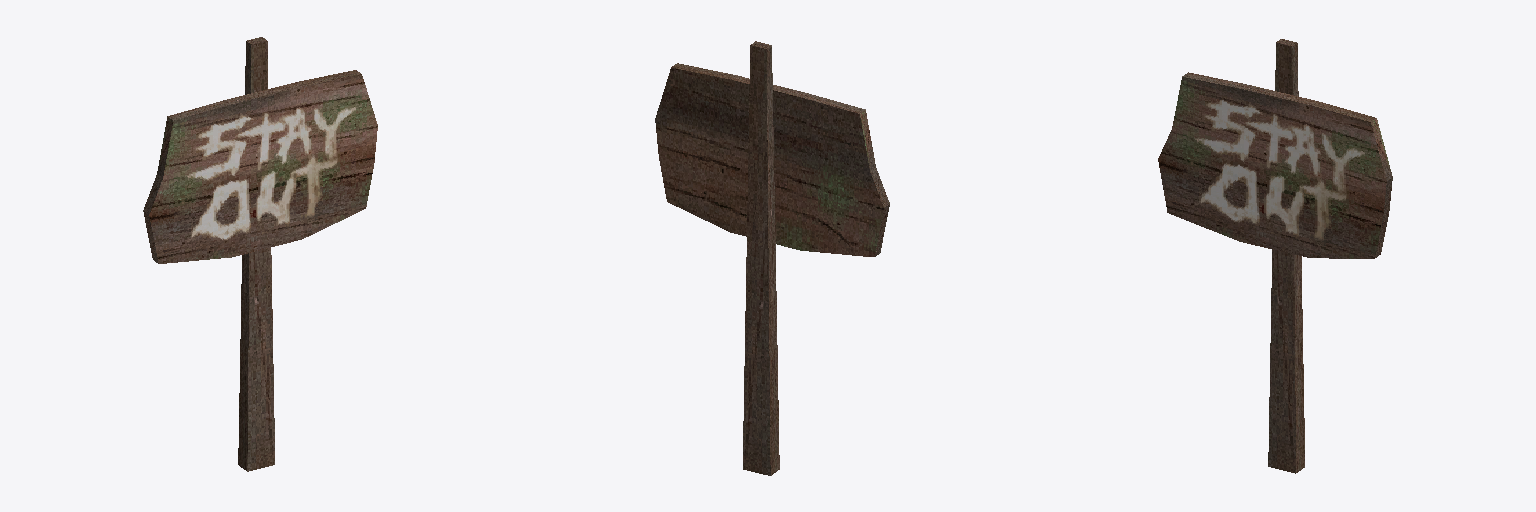
The picture shows the model from 3 angles: view 1: azimuth 30°, elevation 25°; view 2: azimuth 150°, elevation 25°; view 3: azimuth 330°, elevation 25°; orthographic projection.
Visible parts, largest first — view 1: Sign_Stay_Out_PROP_Sign_Stay_Out; view 2: Sign_Stay_Out_PROP_Sign_Stay_Out; view 3: Sign_Stay_Out_PROP_Sign_Stay_Out.
Part boxes in pixels (left/top/right/bottom): Sign_Stay_Out_PROP_Sign_Stay_Out: left=143, top=37, right=377, bottom=471; Sign_Stay_Out_PROP_Sign_Stay_Out: left=655, top=41, right=889, bottom=475; Sign_Stay_Out_PROP_Sign_Stay_Out: left=1158, top=39, right=1392, bottom=473.
Bounding box in the file's own units: 0.9505 × 1.68 × 0.1094.
Materials: 1 (1 with a texture image).